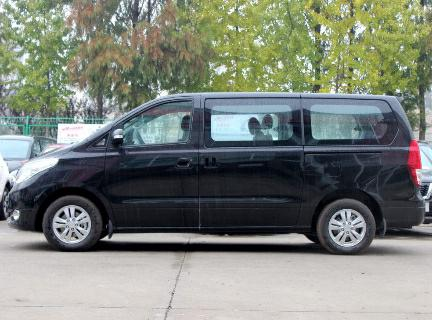东风风行-风行CM7: (4, 89, 428, 263)
